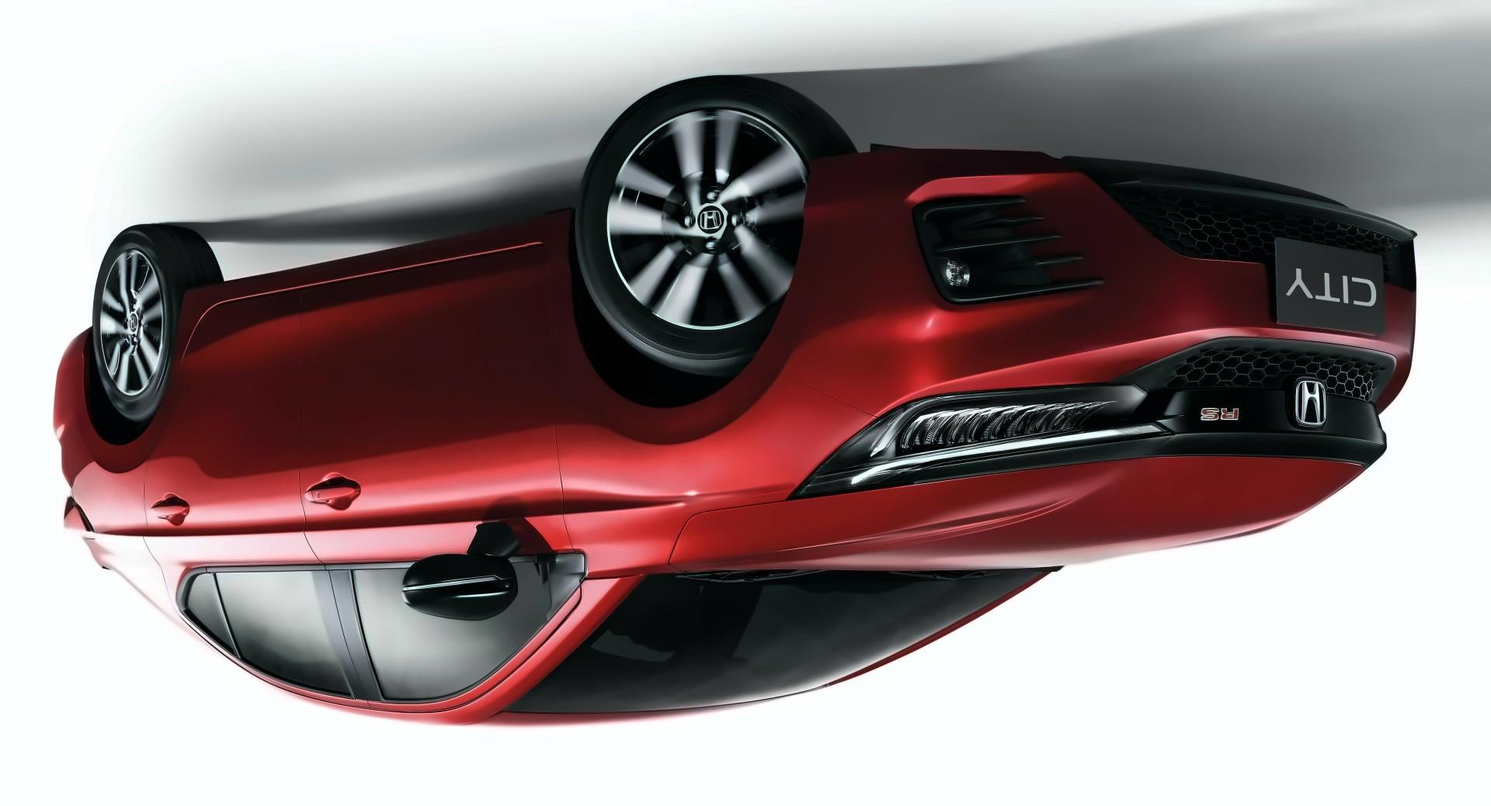Car hood: (666, 438, 1368, 573)
Fender - -F-L-: (535, 317, 874, 574)
Fender - -R-L-: (44, 369, 186, 578)
Front bumper: (748, 120, 1427, 420)
Headlight - -L-: (793, 376, 1156, 504)
Passenger-s door - -F-L-: (271, 166, 602, 709)
Passenger-s door - -R-L-: (134, 225, 379, 713)
Side bumper - -L-: (170, 189, 588, 427)
Side mirror - -L-: (398, 516, 526, 614)
